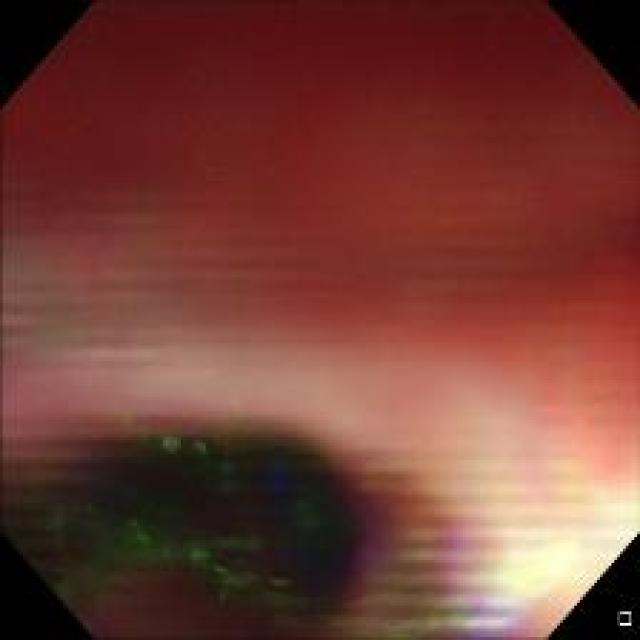color misalignment: (8, 0, 630, 621), (10, 370, 576, 629)
contrast: (22, 428, 371, 619)
